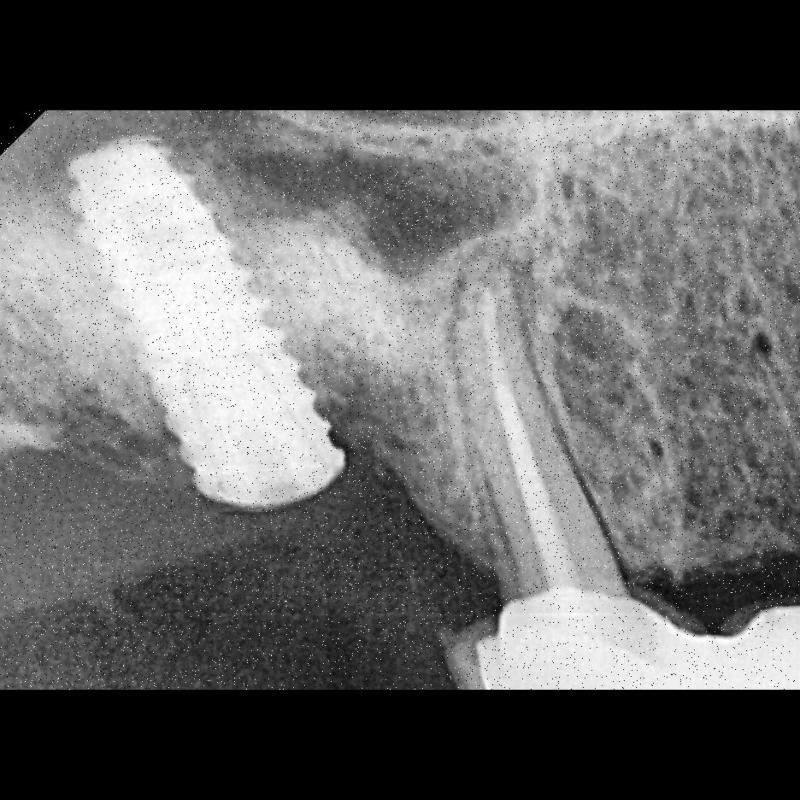osstem: (57, 132, 372, 518)
